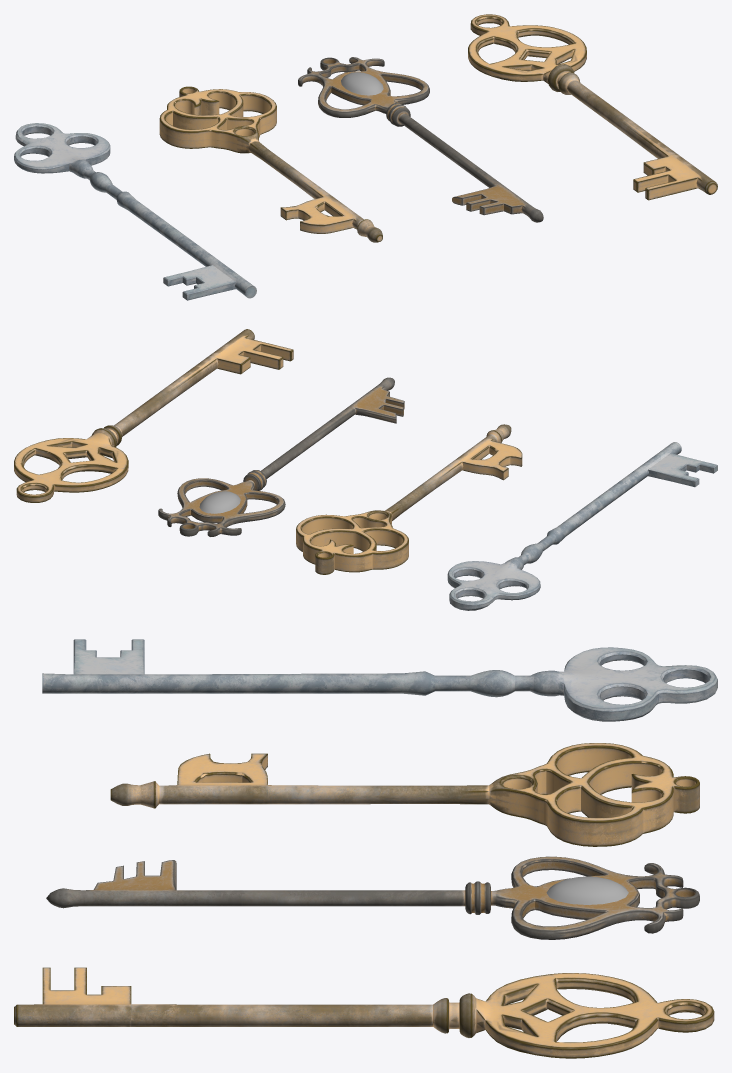
File: key .fbx
3 renders of one model, top to bottom at view 1: azimuth 30°, elevation 25°; view 2: azimuth 150°, elevation 25°; view 3: azimuth 270°, elevation 25°, orthographic. The views are drawn at different scales.
Visible parts, largest first — view 1: 平面, 平面.001, 円.001, 円; view 2: 平面, 平面.001, 円.001, 円; view 3: 平面, 平面.001, 円, 円.001.
Boxes of the visible parts, x1,y1,x2,y2 form: 平面: [468, 14, 717, 200]; 平面.001: [159, 86, 382, 242]; 円.001: [298, 57, 543, 222]; 円: [14, 123, 256, 300]; 平面: [14, 329, 293, 502]; 平面.001: [296, 424, 522, 574]; 円.001: [158, 377, 404, 536]; 円: [447, 442, 717, 610]; 平面: [14, 967, 714, 1058]; 平面.001: [110, 743, 699, 846]; 円: [42, 639, 717, 721]; 円.001: [46, 856, 699, 939].
Size of the model in its own units: 202 by 9.37 by 147.
